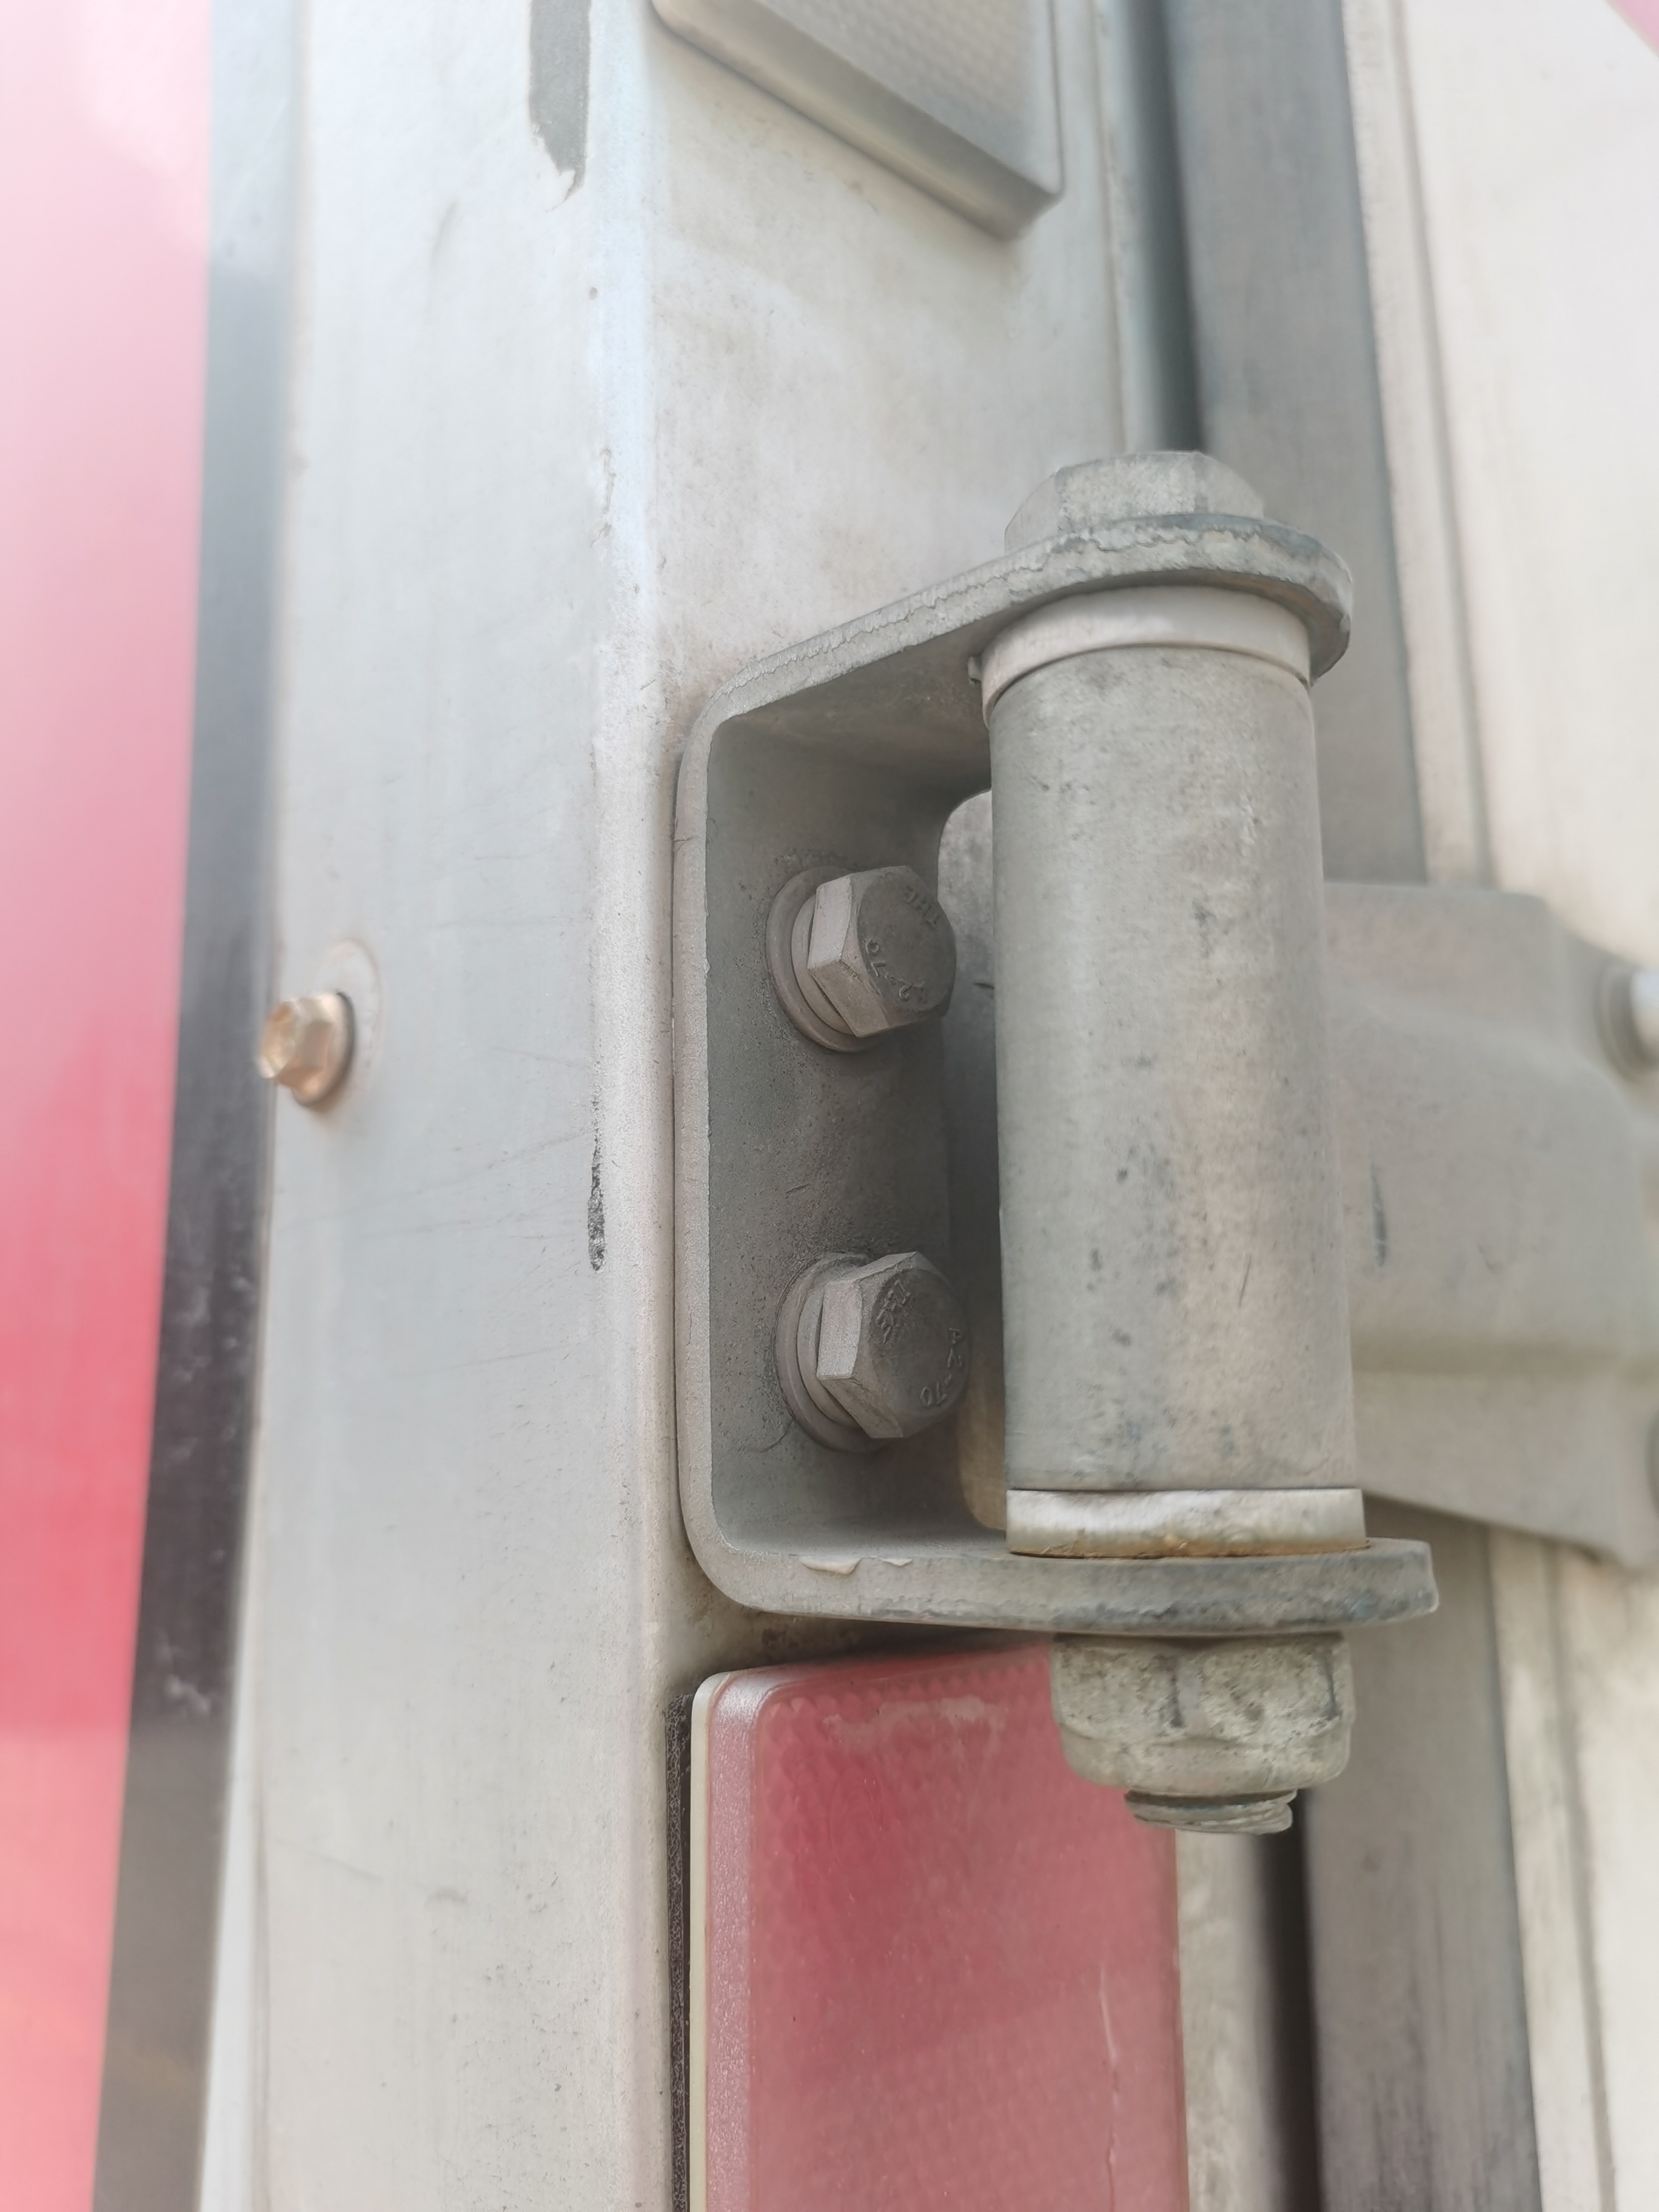bolt_a: (814, 1242, 983, 1461), (796, 855, 965, 1052)
bolt_c: (1026, 1616, 1370, 1843)
